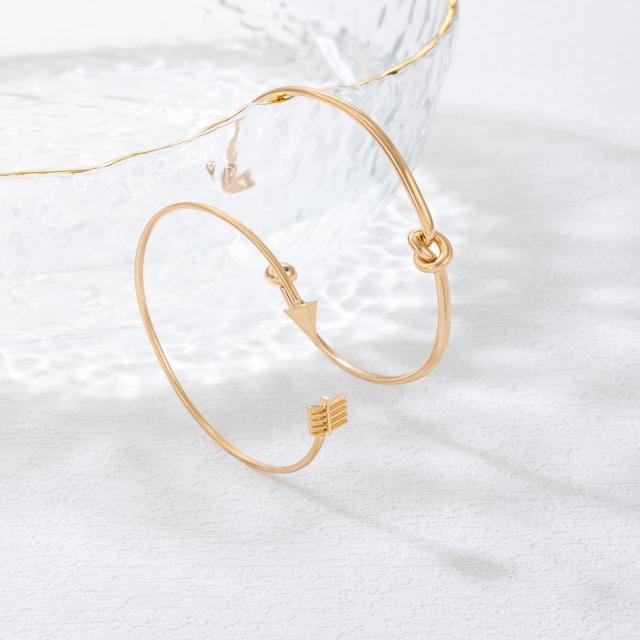bracelet: (85, 34, 488, 502)
